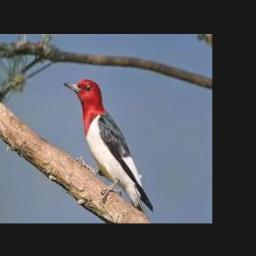Woodpecker: (64, 78, 154, 218)
